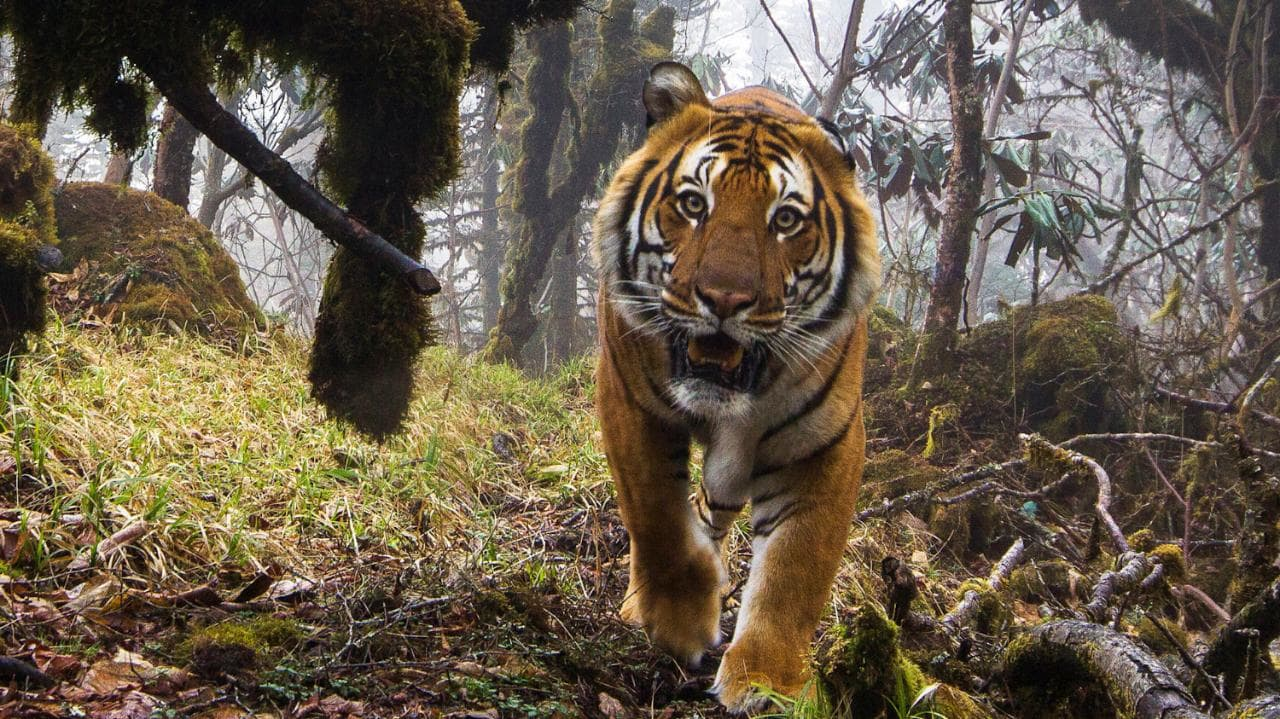Tiger: (589, 61, 866, 711)
